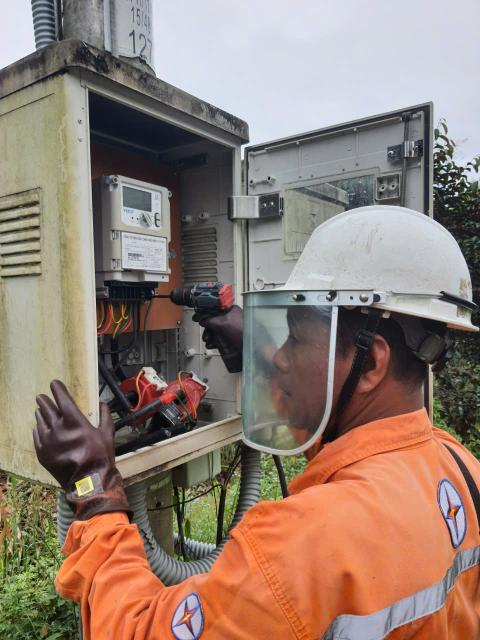gloves: (26, 375, 151, 528)
helmet: (255, 195, 480, 349)
